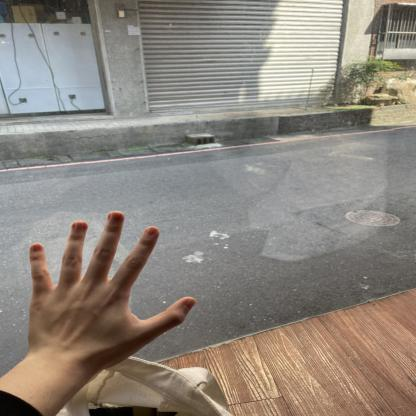bare_hand: (18, 201, 204, 379)
